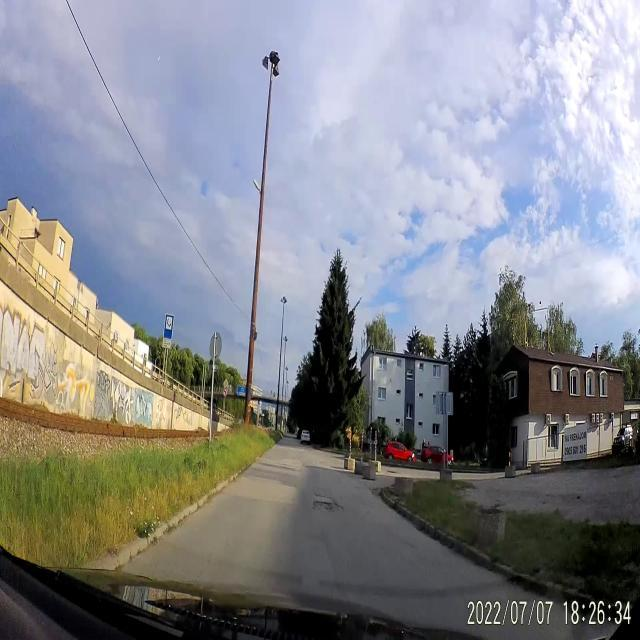Pothole: (312, 490, 343, 520), (364, 485, 380, 495)
